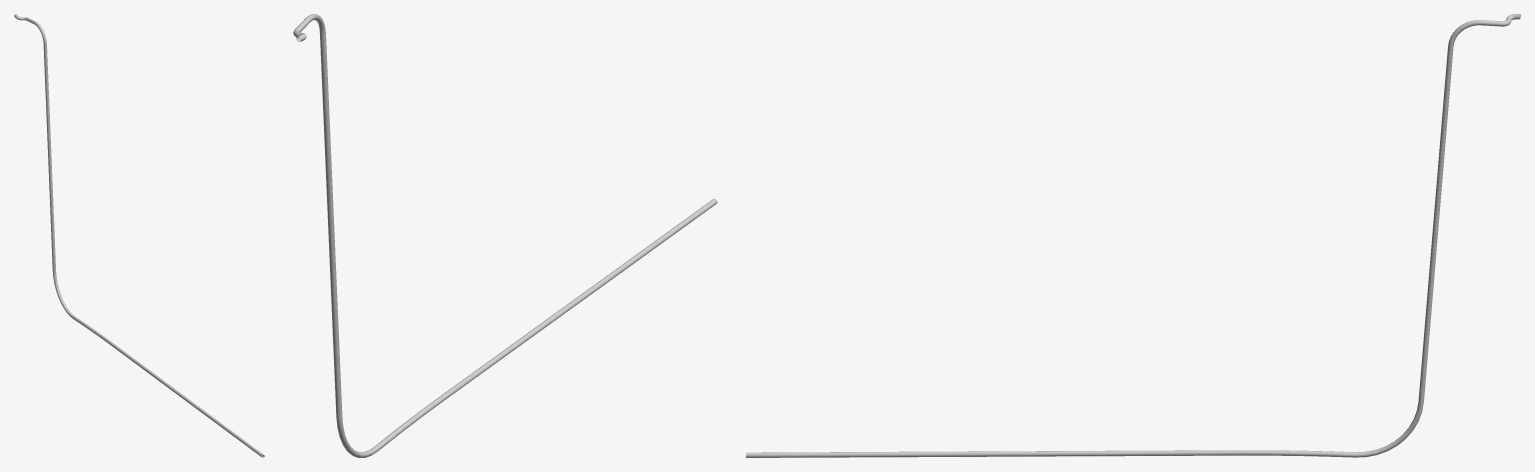
File: Pipe__5.fbx
3 views of the same model, side by side, from view 1: azimuth 30°, elevation 25°; view 2: azimuth 150°, elevation 25°; view 3: azimuth 270°, elevation 25° (orthographic). The views are drawn at different scales.
Parts seen in each view (by area): view 1: Pipe_Red; view 2: Pipe_Red; view 3: Pipe_Red.
Part boxes in pixels (x1,y1,x2,y2): Pipe_Red: [14, 14, 264, 457]; Pipe_Red: [293, 14, 717, 457]; Pipe_Red: [746, 14, 1520, 457].
Bounding box in the file's own units: 0.3101 × 7.02 × 11.28.
Materials: 1 (1 with a texture image).
